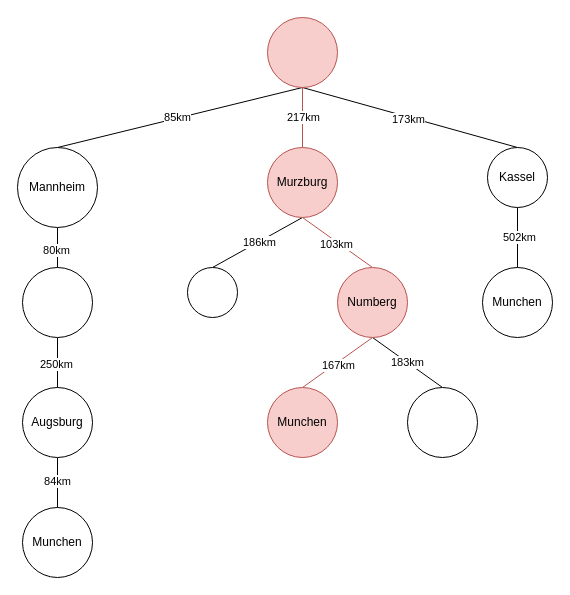
This 570x595 diagram has some shape labels left out. The shapes that lost their labels are listed below. From the top down, each one's centre as x and y in pixels, then its label:
pixel 302 52: Frankfurk
pixel 57 302: karlsruhe
pixel 212 292: Erfurt
pixel 442 422: Stuttgart
